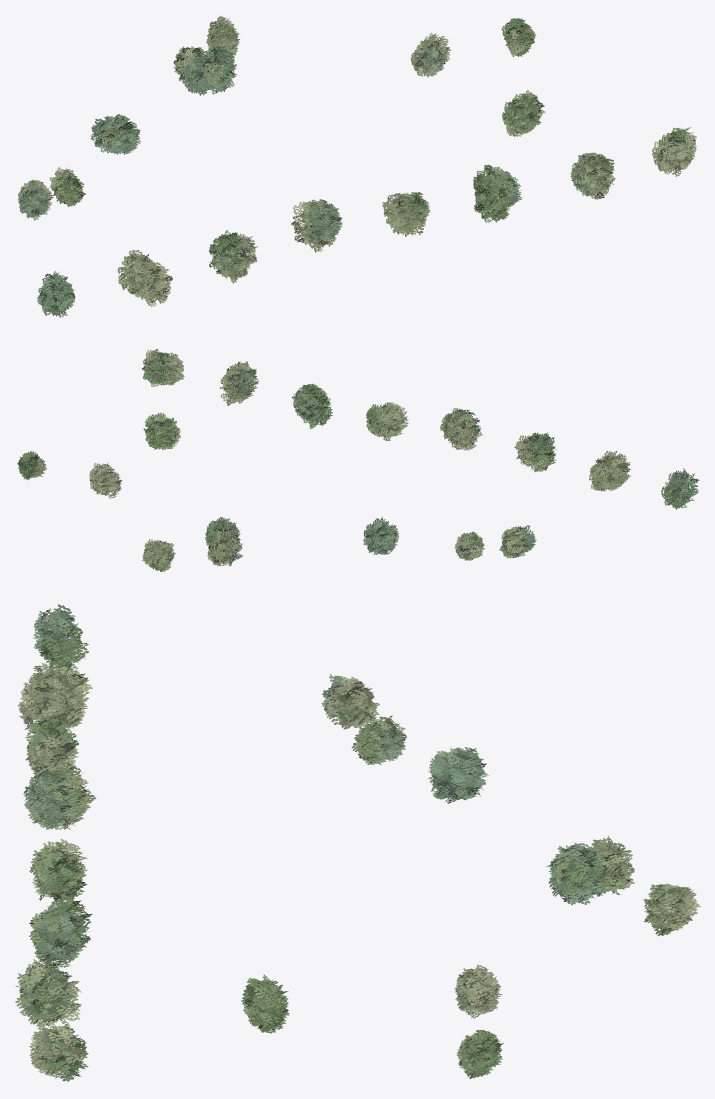
File: campus-tree--4_-1-near.glb
3 views of the same model, one above another, from view 1: azimuth 30°, elevation 25°; view 2: azimuth 150°, elevation 25°; view 3: azimuth 270°, elevation 25° (orthographic). The views are drawn at different scales.
Parts seen in each view (by area): view 1: Campus leaf canopy; view 2: Campus leaf canopy; view 3: Campus leaf canopy.
Boxes of the visible parts, x1=… form: Campus leaf canopy: x1=18, y1=15, x2=696, y2=317; Campus leaf canopy: x1=17, y1=349, x2=699, y2=571; Campus leaf canopy: x1=15, y1=604, x2=700, y2=1081.
Bounding box in the file's own units: 83.25 × 7.95 × 56.11.
1 material, 1 textured.
